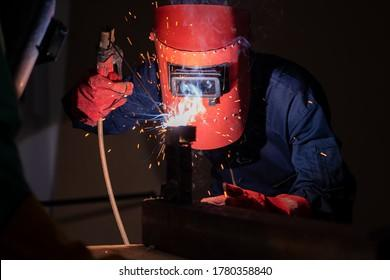gloves: (72, 56, 133, 127), (200, 181, 311, 219)
